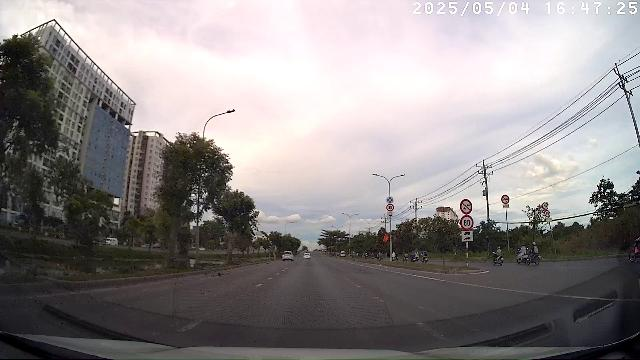127-toc-do-toi-da-50: (542, 202, 549, 210)
127-toc-do-toi-da-60: (460, 215, 474, 230)
127-toc-do-toi-da-80: (386, 204, 394, 211)
